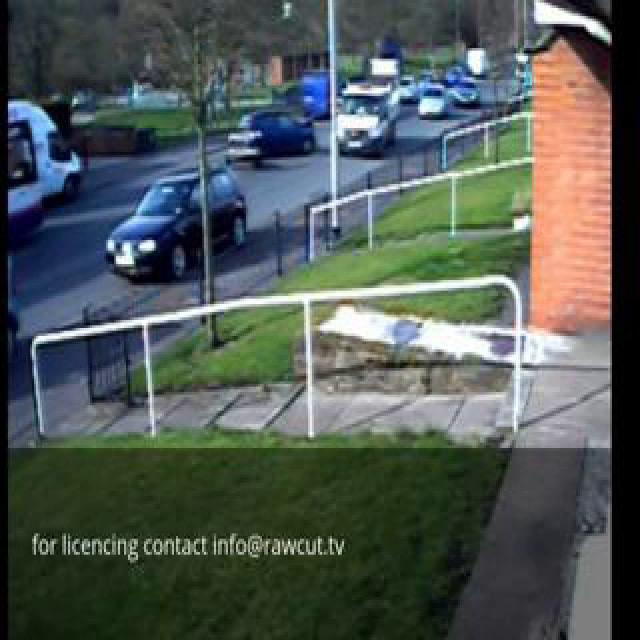road accidents: (11, 172, 441, 507)
